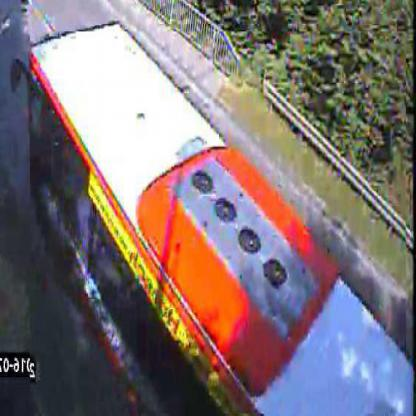bus: (30, 32, 407, 416)
